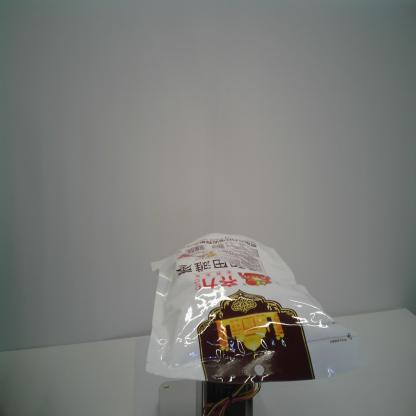Dried Food: (144, 229, 366, 387)
